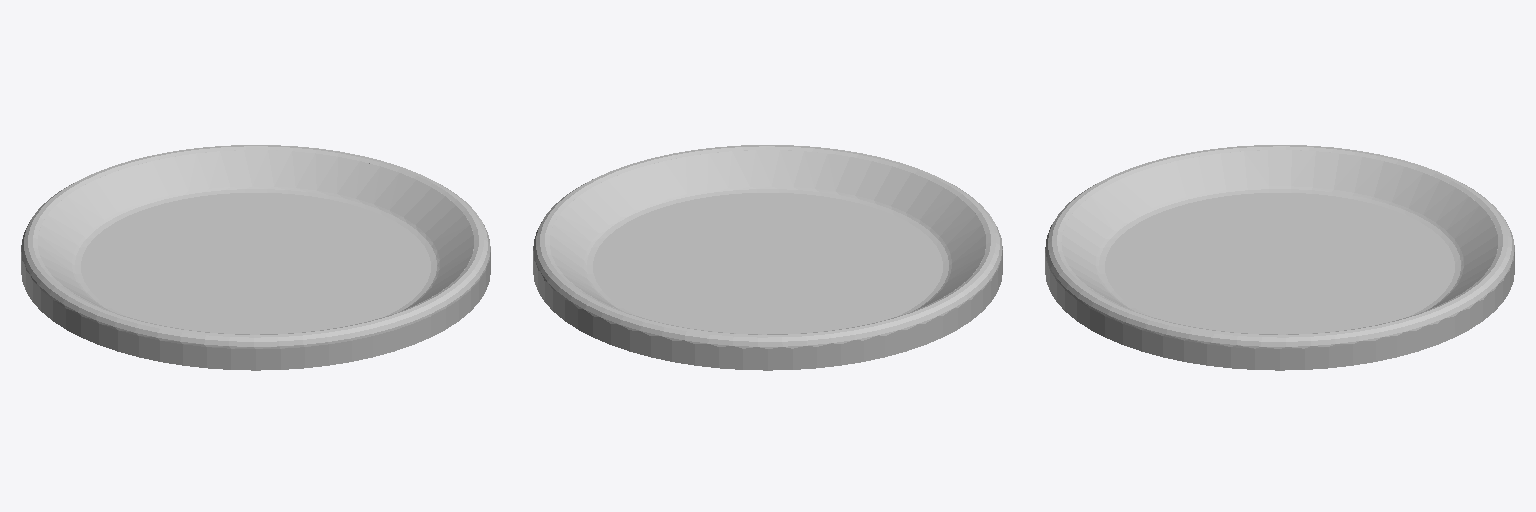
Rendered from 77. Заглушка.obj.
3 views of the same model, side by side, from view 1: azimuth 30°, elevation 25°; view 2: azimuth 150°, elevation 25°; view 3: azimuth 270°, elevation 25° (orthographic).
Visible parts, largest first — view 1: Твердое тело1; view 2: Твердое тело1; view 3: Твердое тело1.
Boxes of the visible parts, <box> form: Твердое тело1: <box>21,145,490,370</box>; Твердое тело1: <box>533,145,1002,370</box>; Твердое тело1: <box>1045,145,1514,370</box>.
Size of the model in its own units: 90 by 6.49 by 90.